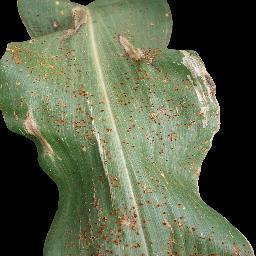Corn_Common_Rust: (0, 0, 104, 256), (104, 0, 175, 256), (176, 44, 224, 256), (223, 215, 255, 256)
